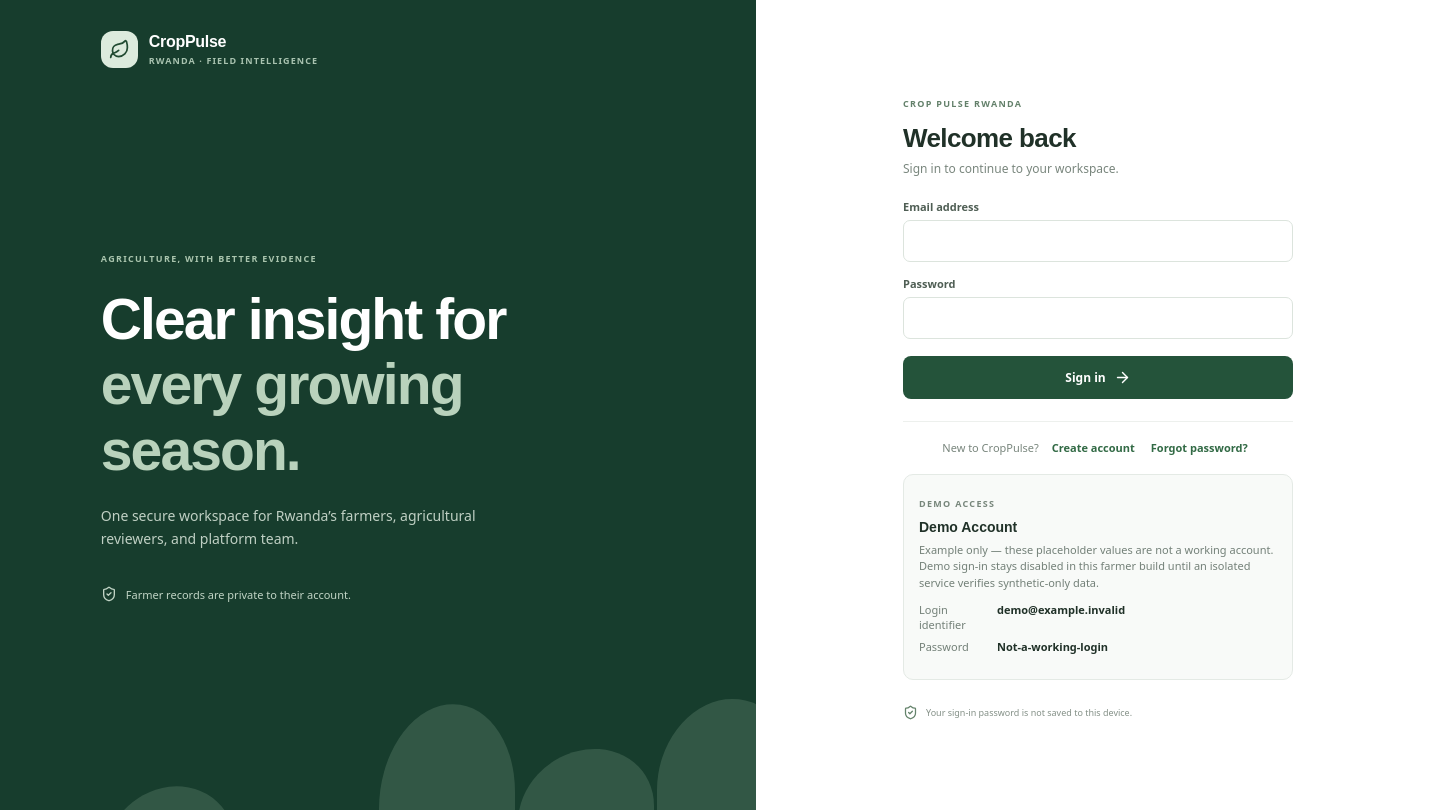
Scenario: React authentication and role navigation › returns to the Streamlit workspace after React sign-in when requested
Expected: the heading "Welcome back" is shown, x1=903 y1=123 x2=1076 y2=153
In the field labelled "Email address": (1098, 241) x1=903 y1=220 x2=1293 y2=262, type "admin@example.com"
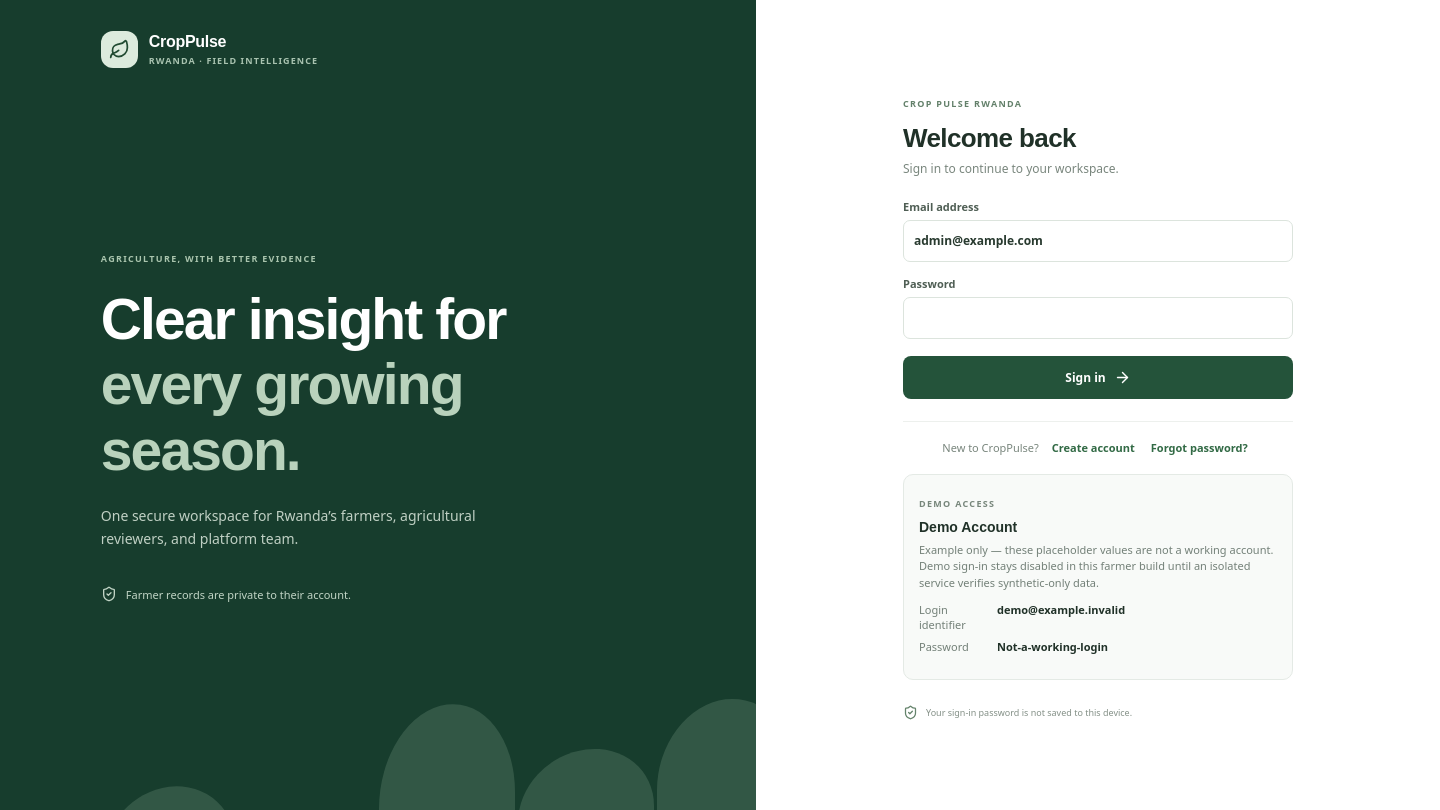
In the password field labelled "Password": (1098, 318) x1=903 y1=297 x2=1293 y2=339, type "synthetic-password"
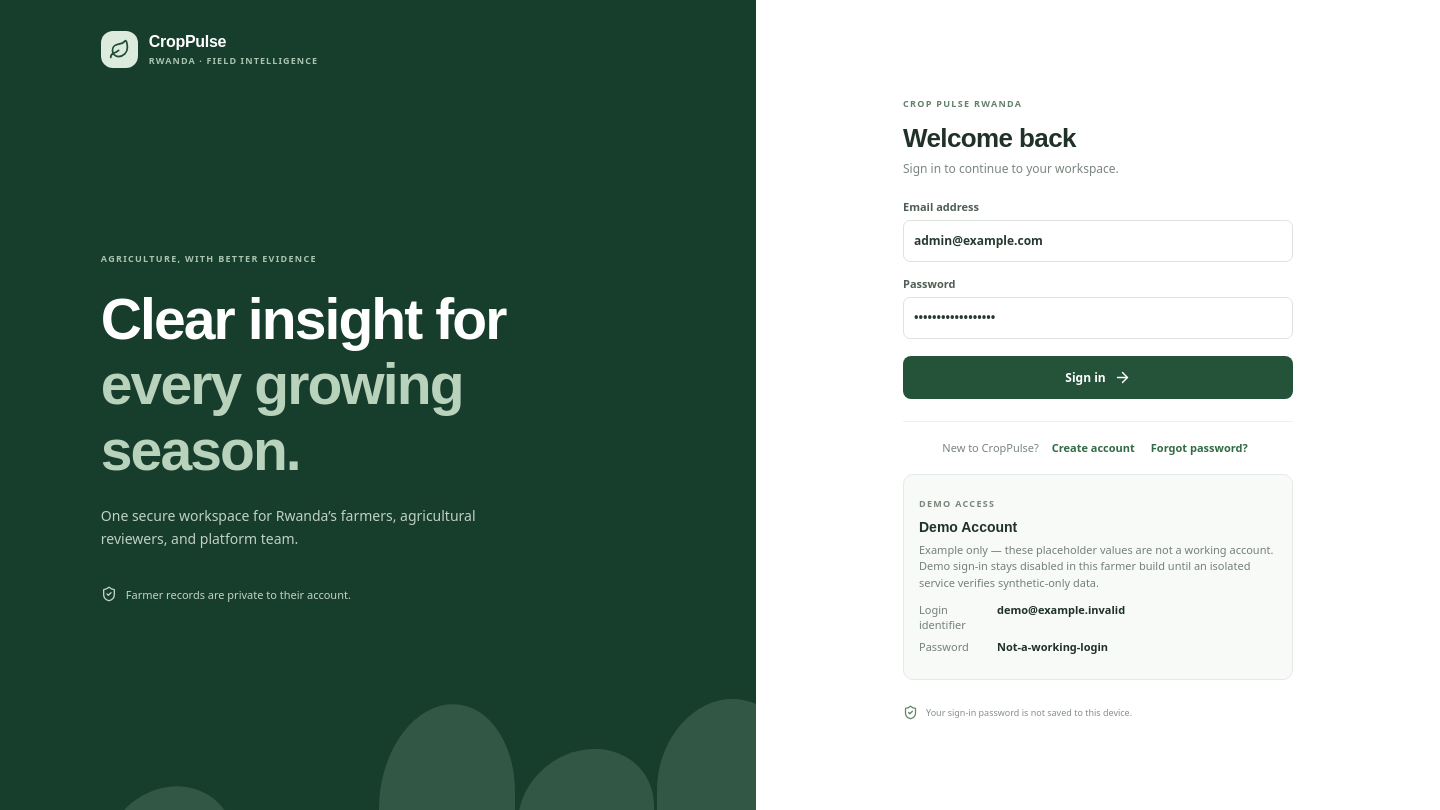
Click the button "Sign in": (1098, 377) x1=903 y1=356 x2=1293 y2=399
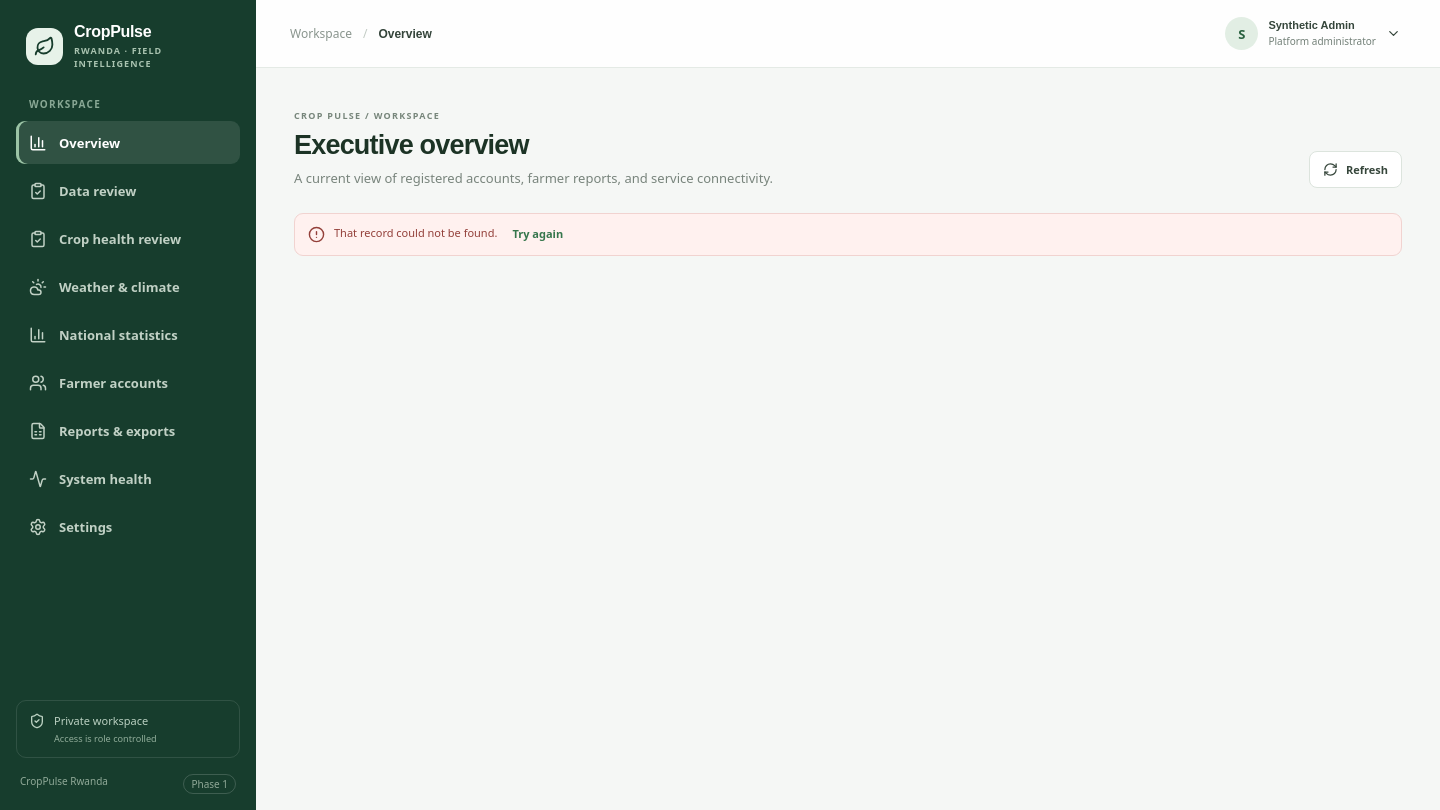
Expected: the link "Farmer accounts" is shown, x1=29 y1=374 x2=168 y2=392
